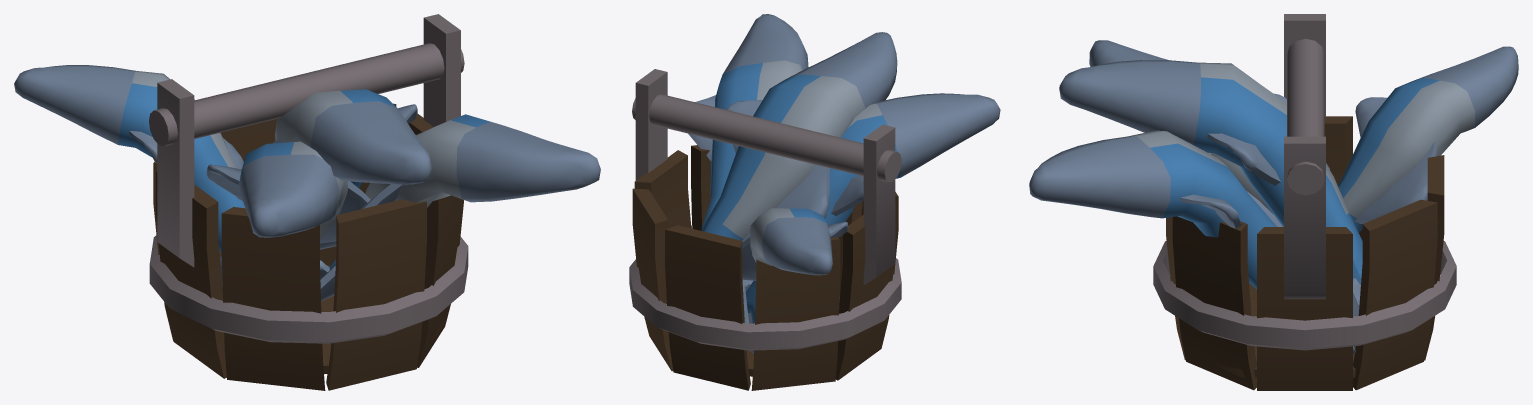
Rendered from bucket_fish.fbx.
3 views of the same model, side by side, from view 1: azimuth 30°, elevation 25°; view 2: azimuth 150°, elevation 25°; view 3: azimuth 270°, elevation 25° (orthographic). The views are drawn at different scales.
Visible parts, largest first — view 1: Prop_Bucket_Fishes; view 2: Prop_Bucket_Fishes; view 3: Prop_Bucket_Fishes.
Boxes of the visible parts, x1,y1,x2,y2 form: Prop_Bucket_Fishes: (14, 14, 600, 390); Prop_Bucket_Fishes: (629, 14, 1000, 390); Prop_Bucket_Fishes: (1029, 14, 1518, 390).
Size of the model in its own units: 0.7457 by 0.5904 by 1.
